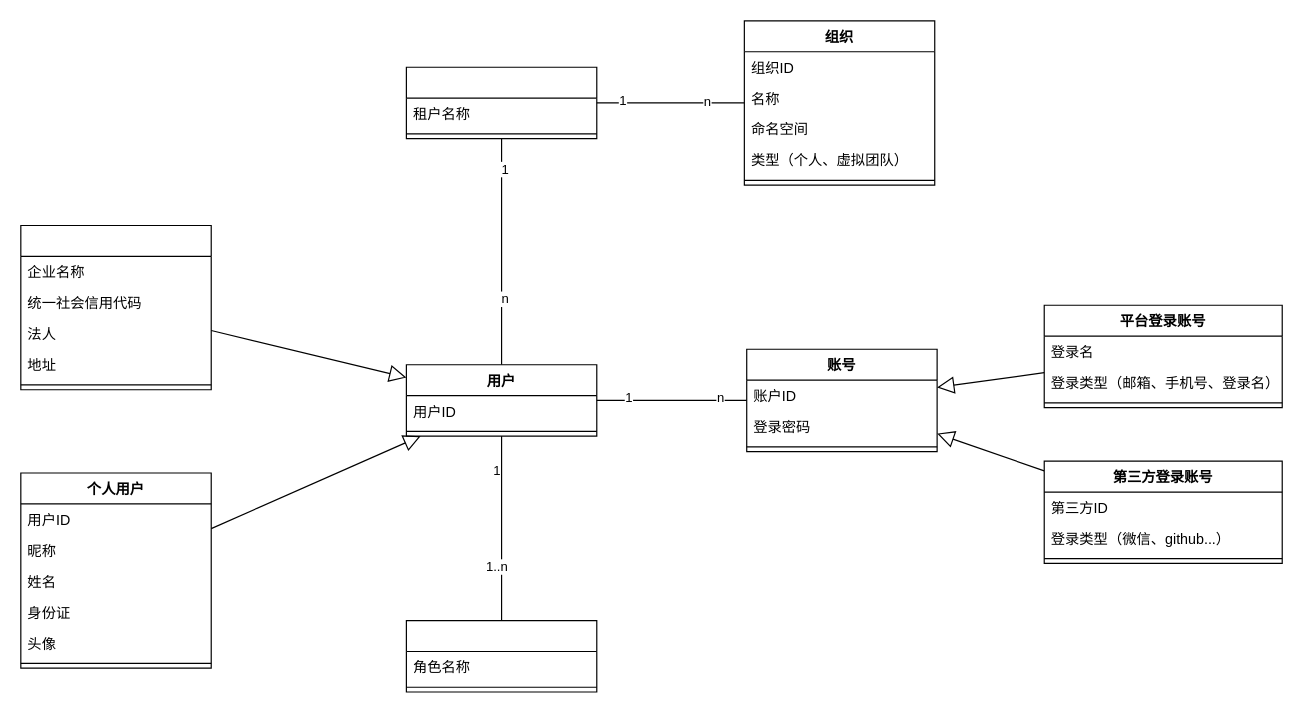
Some shapes in this 1303 by 713 pixel diagram are drawn without their labels. Each missing label, with the box of its shape:
企业用户: (20, 224, 211, 390)
租户: (405, 66, 597, 139)
角色: (405, 619, 597, 692)
